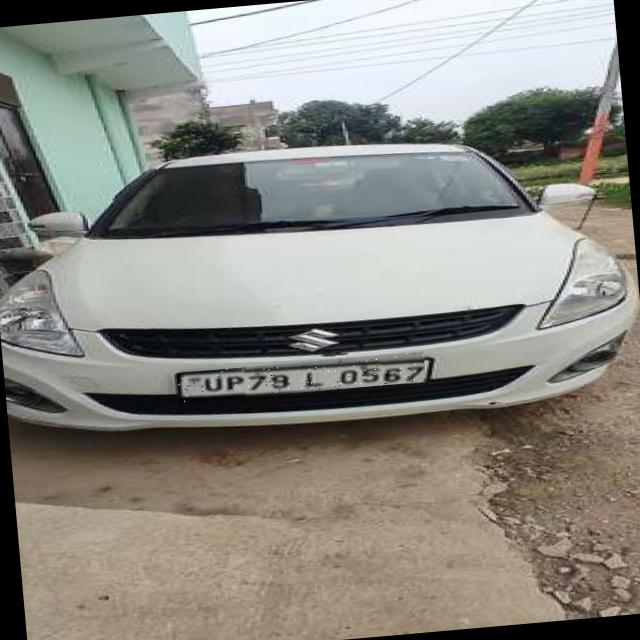Plate: (177, 353, 427, 404)
